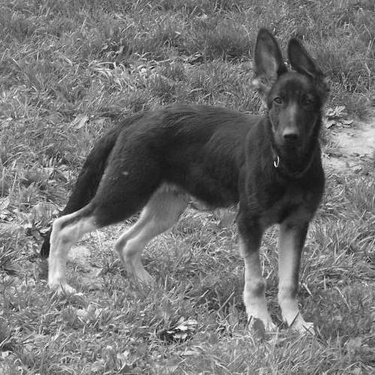dog: (34, 16, 329, 343)
